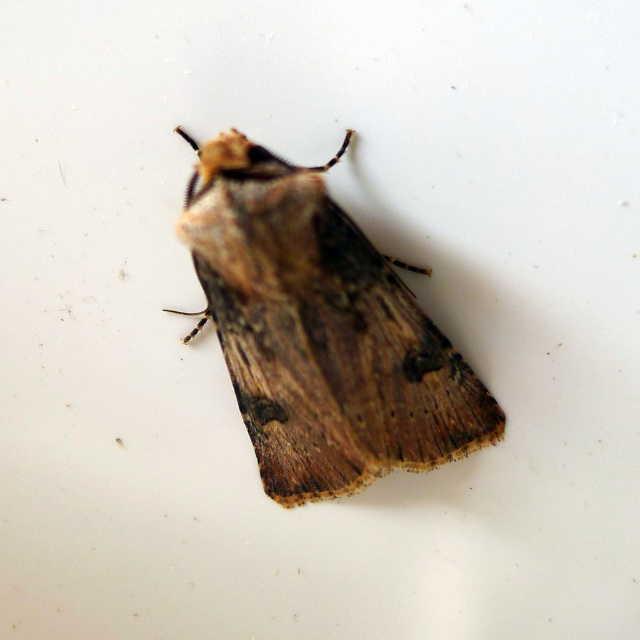Moths and butterflies: (158, 122, 509, 514)
